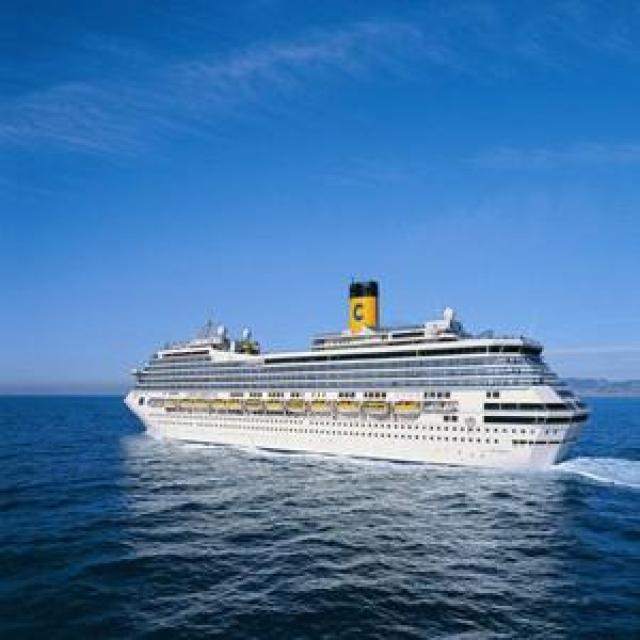passenger ship: (119, 274, 578, 470)
